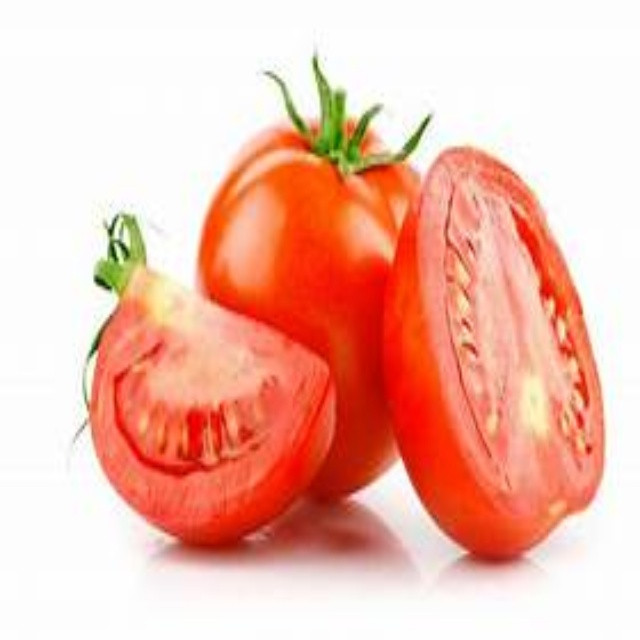tomato: (185, 118, 451, 515), (383, 159, 622, 549), (89, 257, 338, 538)
